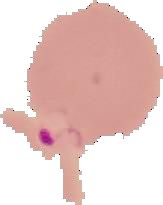parasitized: (37, 104, 80, 155)
